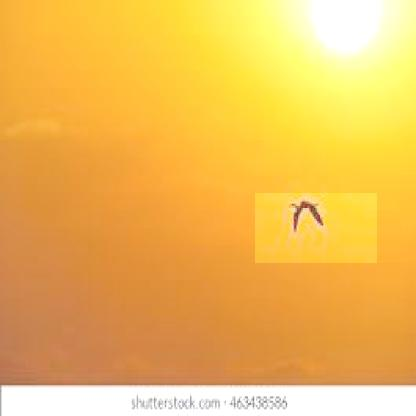bird: (255, 193, 377, 263)
